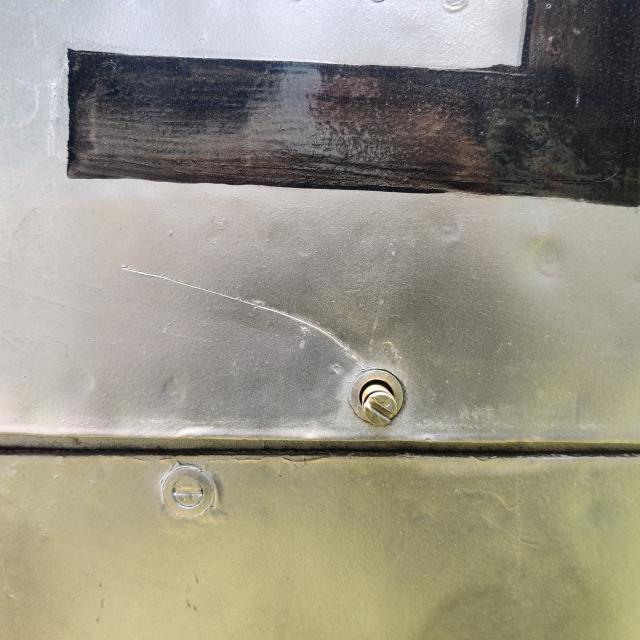Scratch: (107, 255, 385, 381)
